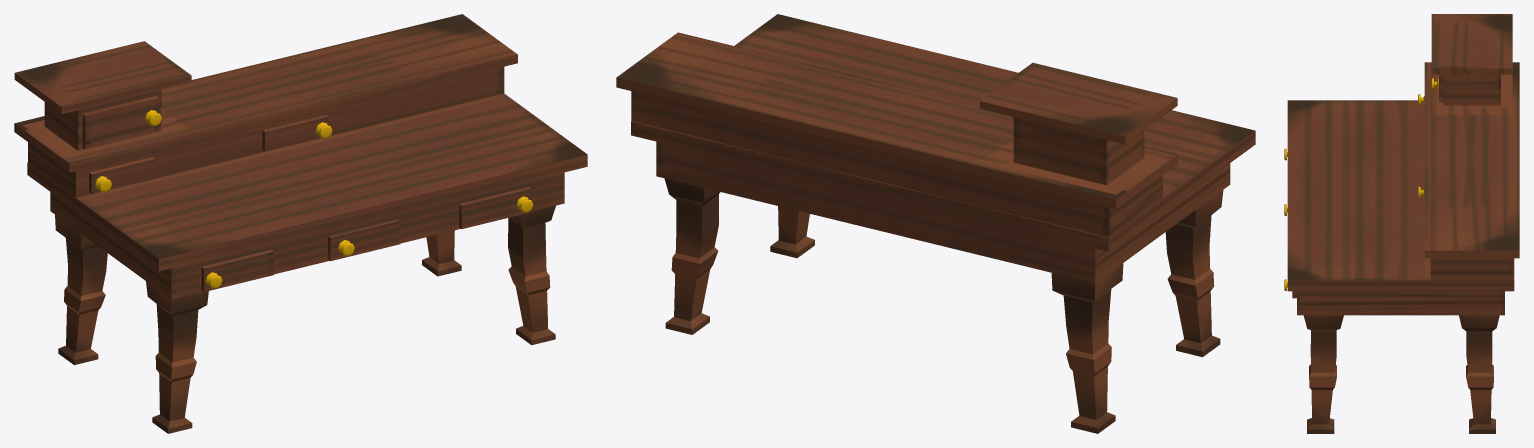
Rendered from Desk.glb.
3 views of the same model, side by side, from view 1: azimuth 30°, elevation 25°; view 2: azimuth 150°, elevation 25°; view 3: azimuth 270°, elevation 25° (orthographic). The views are drawn at different scales.
Parts seen in each view (by area): view 1: Cube; view 2: Cube; view 3: Cube.
Part boxes in pixels (x1,y1,x2,y2): Cube: (14, 14, 587, 433); Cube: (616, 14, 1255, 433); Cube: (1284, 14, 1519, 433).
Bounding box in the file's own units: 1.13 × 0.6756 × 0.5937.
2 materials, 1 textured.
